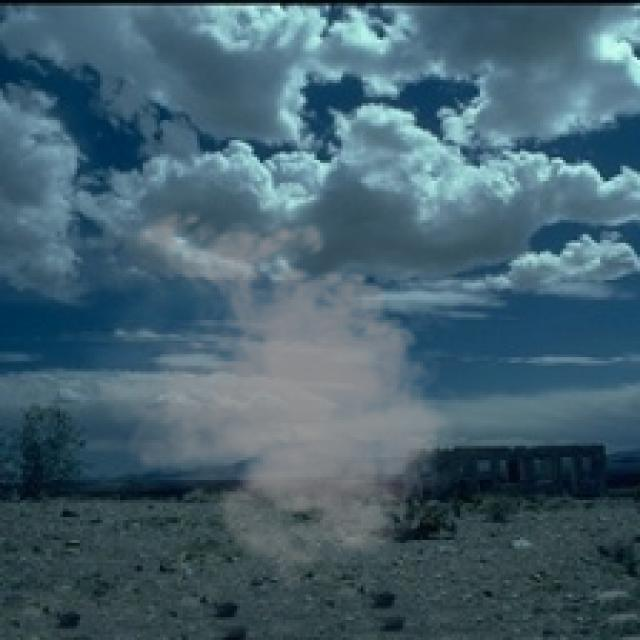smoke: (71, 200, 468, 591)
